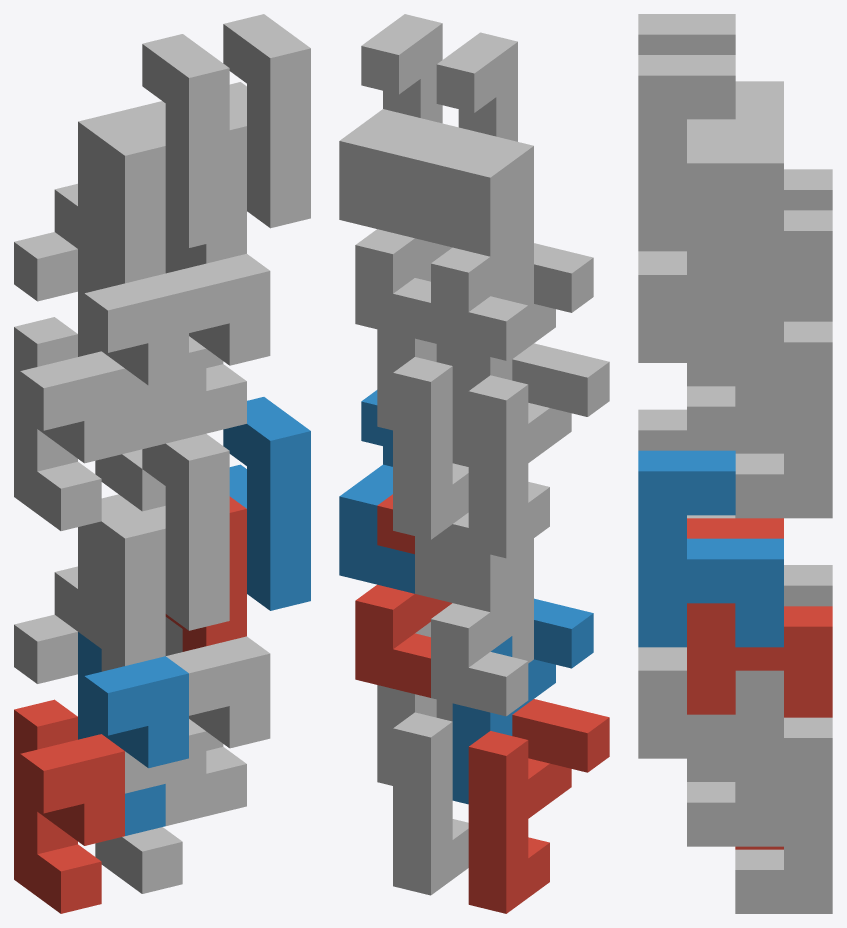
File: tiling.obj
The picture shows the model from 3 angles, left to right: view 1: azimuth 30°, elevation 25°; view 2: azimuth 150°, elevation 25°; view 3: azimuth 270°, elevation 25°; orthographic projection. The views are drawn at different scales.
Parts seen in each view (by area): view 1: copy_1_domain_1, copy_1_domain_3, copy_2_domain_3, copy_2_domain_1, copy_2_domain_4, copy_2_domain_8, copy_2_domain_2, copy_2_domain_6, copy_1_domain_4, copy_1_domain_2, copy_1_domain_8, copy_1_domain_6 (+4 smaller); view 2: copy_1_domain_1, copy_1_domain_3, copy_2_domain_3, copy_2_domain_4, copy_2_domain_8, copy_2_domain_1, copy_1_domain_5, copy_1_domain_7, copy_2_domain_7, copy_2_domain_5, copy_1_domain_2, copy_1_domain_4 (+4 smaller); view 3: copy_2_domain_6, copy_2_domain_8, copy_1_domain_6, copy_1_domain_8, copy_1_domain_7, copy_2_domain_5, copy_2_domain_7, copy_1_domain_5, copy_2_domain_4, copy_2_domain_3, copy_2_domain_2, copy_2_domain_1.
Boxes of the visible parts, left/top/right/bottom form: copy_1_domain_1: left=14, top=699, right=124, bottom=913; copy_1_domain_3: left=14, top=317, right=124, bottom=530; copy_2_domain_3: left=14, top=111, right=165, bottom=301; copy_2_domain_1: left=14, top=494, right=165, bottom=683; copy_2_domain_4: left=78, top=34, right=229, bottom=247; copy_2_domain_8: left=223, top=14, right=310, bottom=228; copy_2_domain_2: left=78, top=434, right=229, bottom=630; copy_2_domain_6: left=223, top=397, right=310, bottom=610; copy_1_domain_4: left=78, top=249, right=188, bottom=453; copy_1_domain_2: left=78, top=632, right=188, bottom=835; copy_1_domain_8: left=165, top=234, right=270, bottom=433; copy_1_domain_6: left=165, top=617, right=270, bottom=816; copy_1_domain_1: left=468, top=699, right=609, bottom=913; copy_1_domain_3: left=468, top=343, right=609, bottom=558; copy_2_domain_3: left=431, top=136, right=533, bottom=360; copy_2_domain_4: left=415, top=32, right=517, bottom=256; copy_2_domain_8: left=339, top=14, right=442, bottom=238; copy_2_domain_1: left=431, top=512, right=533, bottom=716; copy_1_domain_5: left=393, top=699, right=468, bottom=895; copy_1_domain_7: left=393, top=344, right=468, bottom=539; copy_2_domain_7: left=355, top=118, right=457, bottom=342; copy_2_domain_5: left=355, top=494, right=452, bottom=697; copy_1_domain_2: left=452, top=598, right=593, bottom=804; copy_1_domain_4: left=452, top=243, right=593, bottom=448; copy_2_domain_6: left=638, top=450, right=783, bottom=647; copy_2_domain_8: left=638, top=55, right=783, bottom=251; copy_1_domain_6: left=638, top=647, right=783, bottom=846; copy_1_domain_8: left=638, top=251, right=783, bottom=450; copy_1_domain_7: left=687, top=321, right=832, bottom=518; copy_2_domain_5: left=687, top=518, right=832, bottom=714; copy_2_domain_7: left=687, top=122, right=832, bottom=318; copy_1_domain_5: left=687, top=717, right=832, bottom=913; copy_2_domain_4: left=638, top=14, right=783, bottom=122; copy_2_domain_3: left=735, top=81, right=832, bottom=210; copy_2_domain_2: left=638, top=409, right=735, bottom=518; copy_2_domain_1: left=784, top=565, right=832, bottom=606.
Size of the model in its own units: 6 by 20 by 4.
